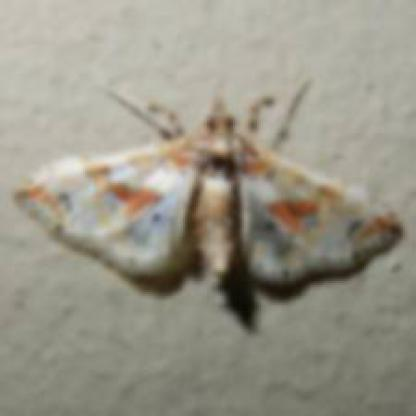leucinodes: (16, 96, 405, 288)
